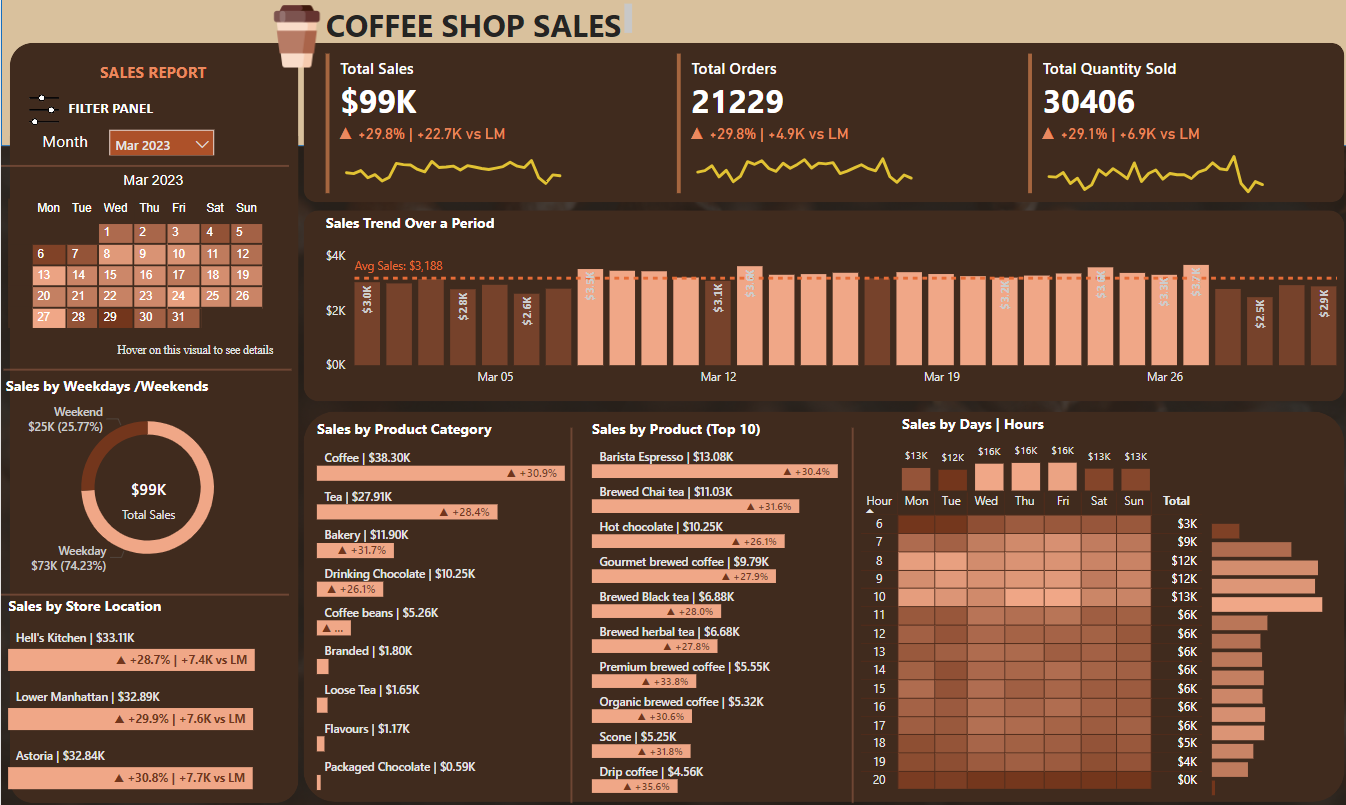

Layout of this report page (visuals, bound fields, positions):
{"tool":"powerbi","page":{"name":"Dashboard","canvas":[1400,850],"ordinal":0},"visuals":[{"type":"shape","box":[314.3,428.6,1081.4,405.7],"z":0},{"type":"shape","box":[0,0,1400,152.9],"z":1000},{"type":"shape","box":[8.6,45.7,300,790],"z":2000},{"type":"shape","box":[314.3,45.7,1081.4,165.7],"z":3000},{"type":"textbox","box":[332.9,0,328.6,45.7],"z":4000},{"type":"cardVisual","fields":{"Data":["Transactions.Total_sales"]},"box":[333,51.4,300.6,155.6],"z":4000,"group":"g1"},{"type":"cardVisual","fields":{"Data":["Transactions.Total Orders"]},"box":[697.9,51.4,300.6,155.6],"z":4000,"group":"g2"},{"type":"cardVisual","fields":{"Data":["Transactions.Total Quantity sold"]},"box":[1062.7,51.4,300.6,155.6],"z":4000,"group":"g3"},{"type":"slicer","fields":{"Values":["Date table.Month Year"]},"box":[107.1,131.4,118.6,31.4],"z":5000},{"type":"group","id":"g1","title":"Group 1","box":[333,51.4,300.6,155.6],"z":6000},{"type":"lineChart","fields":{"Y":["Transactions.Total_sales"],"Category":["Date table.Date.Variation.Date Hierarchy.Year","Date table.Date.Variation.Date Hierarchy.Quarter","Date table.Date.Variation.Date Hierarchy.Month","Date table.Date.Variation.Date Hierarchy.Day"]},"box":[344.9,129.2,251.8,77.8],"z":6000,"group":"g1"},{"type":"lineChart","fields":{"Category":["Date table.Date.Variation.Date Hierarchy.Year","Date table.Date.Variation.Date Hierarchy.Quarter","Date table.Date.Variation.Date Hierarchy.Month","Date table.Date.Variation.Date Hierarchy.Day"],"Y":["Transactions.Total Orders"]},"box":[709.8,129.2,251.8,77.8],"z":6000,"group":"g2"},{"type":"lineChart","fields":{"Category":["Date table.Date.Variation.Date Hierarchy.Year","Date table.Date.Variation.Date Hierarchy.Quarter","Date table.Date.Variation.Date Hierarchy.Month","Date table.Date.Variation.Date Hierarchy.Day"],"Y":["Transactions.Total Quantity sold"]},"box":[1074.6,129.2,251.8,77.8],"z":6000,"group":"g3"},{"type":"group","id":"g2","title":"Group 1","box":[697.9,51.4,300.6,155.6],"z":7000},{"type":"group","id":"g3","title":"Group 2","box":[1062.7,51.4,300.6,155.6],"z":8000},{"type":"pivotTable","fields":{"Columns":["Date table.Day Name"],"Values":["Min(Date table.Day no.)"],"Rows":["Date table.Week no."]},"box":[2.9,202.9,280,171.4],"z":9000},{"type":"cardVisual","fields":{"Data":["Min(Date table.Month Year)"]},"box":[110,154.3,115.7,55.7],"z":10000},{"type":"cardVisual","fields":{"Data":["Transactions.Foot tip"]},"box":[104.3,334.3,212.9,45.7],"z":11000},{"type":"shape","box":[2.9,368.1,299.4,35.1],"z":12000},{"type":"shape","box":[0,156.2,299.4,35.1],"z":13000},{"type":"donutChart","title":"Sales by Weekdays /Weekends","fields":{"Y":["Transactions.Total Sales"],"Category":["Date table.Weekday/Weekend"]},"box":[0,390.4,305,213.6],"z":14000},{"type":"cardVisual","fields":{"Data":["Transactions.Total Sales"]},"box":[97,476.4,112.4,88.5],"z":15000},{"type":"shape","box":[0,600.9,299.4,35.1],"z":16000},{"type":"clusteredBarChart","title":"Sales by Store Location","fields":{"Category":["Transactions.store_location"],"Y":["Transactions.Placeholder","Transactions.Total Sales"]},"box":[2.9,619.6,297.1,210],"z":17000},{"type":"shape","box":[314.3,220,1081.4,198.6],"z":18000},{"type":"columnChart","title":"Sales Trend Over a Period","fields":{"Category":["Transactions.transaction_date"],"Y":["Transactions.Total Sales"]},"box":[332.9,221.4,1067.1,188.6],"z":19000},{"type":"clusteredBarChart","title":"Sales by Product Category","fields":{"Y":["Transactions.Placeholder","Transactions.Total Sales"],"Category":["Transactions.product_category"]},"box":[322.9,435.7,298.6,391.4],"z":20000},{"type":"clusteredBarChart","title":"Sales by Product (Top 10)","fields":{"Y":["Transactions.Placeholder","Transactions.Total Sales"],"Category":["Transactions.product_type"]},"box":[608.6,435.7,297.1,394.3],"z":21000},{"type":"shape","box":[580,445.7,24.3,390],"z":22000},{"type":"shape","box":[872.9,445.7,24.3,390],"z":23000},{"type":"pivotTable","fields":{"Rows":["Transactions.Hour"],"Columns":["Date table.Day Name"],"Values":["Transactions.Total Sales"]},"box":[888.6,507.1,370,327.1],"z":24000},{"type":"barChart","fields":{"Category":["Transactions.Hour"],"Y":["Transactions.Total Sales"]},"box":[1252.9,532.9,147.1,300],"z":25000},{"type":"columnChart","title":"Sales by Days | Hours","fields":{"Y":["Transactions.Total Sales"],"Category":["Date table.Day Name"]},"box":[931.4,431.4,268.6,85.7],"z":26000},{"type":"textbox","box":[25.7,131.4,81.4,31.4],"z":27000},{"type":"textbox","box":[45.7,98.6,137.1,32.9],"z":28000},{"type":"textbox","box":[90,60,137.1,32.9],"z":29000},{"type":"image","box":[270,0,74.3,77.1],"z":30000},{"type":"image","box":[15.7,90,58.6,51.4],"z":31000}]}

Visuals, with their boxes in screenshot pixels (x1, y1, x2, y2), scaled from the page's 1400x850 canvas onto the 1346x805 screenshot:
shape: left=302, top=406, right=1342, bottom=790
shape: left=0, top=0, right=1345, bottom=145
shape: left=8, top=43, right=297, bottom=791
shape: left=302, top=43, right=1342, bottom=200
textbox: left=320, top=0, right=636, bottom=43
cardVisual - Transactions.Total_sales: left=320, top=49, right=609, bottom=196
cardVisual - Transactions.Total Orders: left=671, top=49, right=960, bottom=196
cardVisual - Transactions.Total Quantity sold: left=1022, top=49, right=1311, bottom=196
slicer - Date table.Month Year: left=103, top=124, right=217, bottom=154
"Group 1" group: left=320, top=49, right=609, bottom=196
lineChart - Transactions.Total_sales x Date table.Date.Variation.Date Hierarchy.Year: left=332, top=122, right=574, bottom=196
lineChart - Date table.Date.Variation.Date Hierarchy.Year x Date table.Date.Variation.Date Hierarchy.Quarter: left=682, top=122, right=925, bottom=196
lineChart - Date table.Date.Variation.Date Hierarchy.Year x Date table.Date.Variation.Date Hierarchy.Quarter: left=1033, top=122, right=1275, bottom=196
"Group 1" group: left=671, top=49, right=960, bottom=196
"Group 2" group: left=1022, top=49, right=1311, bottom=196
pivotTable - Date table.Day Name x Min(Date table.Day no.): left=3, top=192, right=272, bottom=354
cardVisual - Min(Date table.Month Year): left=106, top=146, right=217, bottom=199
cardVisual - Transactions.Foot tip: left=100, top=317, right=305, bottom=360
shape: left=3, top=349, right=291, bottom=382
shape: left=0, top=148, right=288, bottom=181
"Sales by Weekdays /Weekends" donutChart: left=0, top=370, right=293, bottom=572
cardVisual - Transactions.Total Sales: left=93, top=451, right=201, bottom=535
shape: left=0, top=569, right=288, bottom=602
"Sales by Store Location" clusteredBarChart: left=3, top=587, right=288, bottom=786
shape: left=302, top=208, right=1342, bottom=396
"Sales Trend Over a Period" columnChart: left=320, top=210, right=1345, bottom=388
"Sales by Product Category" clusteredBarChart: left=310, top=413, right=598, bottom=783
"Sales by Product (Top 10)" clusteredBarChart: left=585, top=413, right=871, bottom=786
shape: left=558, top=422, right=581, bottom=791
shape: left=839, top=422, right=863, bottom=791
pivotTable - Transactions.Hour x Date table.Day Name: left=854, top=480, right=1210, bottom=790
barChart - Transactions.Hour x Transactions.Total Sales: left=1205, top=505, right=1345, bottom=789
"Sales by Days | Hours" columnChart: left=895, top=409, right=1154, bottom=490
textbox: left=25, top=124, right=103, bottom=154
textbox: left=44, top=93, right=176, bottom=125
textbox: left=87, top=57, right=218, bottom=88
image: left=260, top=0, right=331, bottom=73
image: left=15, top=85, right=71, bottom=134
